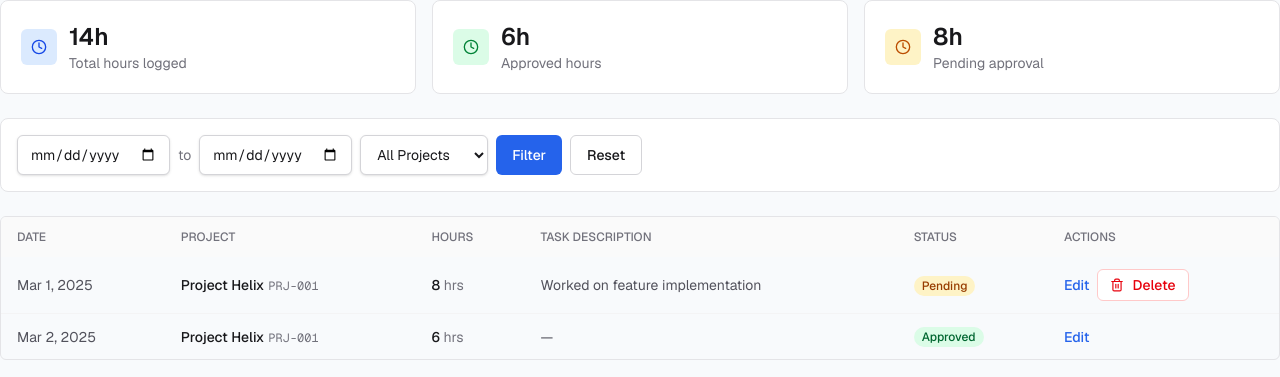
Test case: TimesheetHistoryTable › clears an applied filter and restores every entry when Reset is clicked
This screenshot has width=1280, height=377.
Type "2025-03-02" into the 1st date field named "From".
click(94, 155); type("2025-03-02")  # box [17,135,170,175]
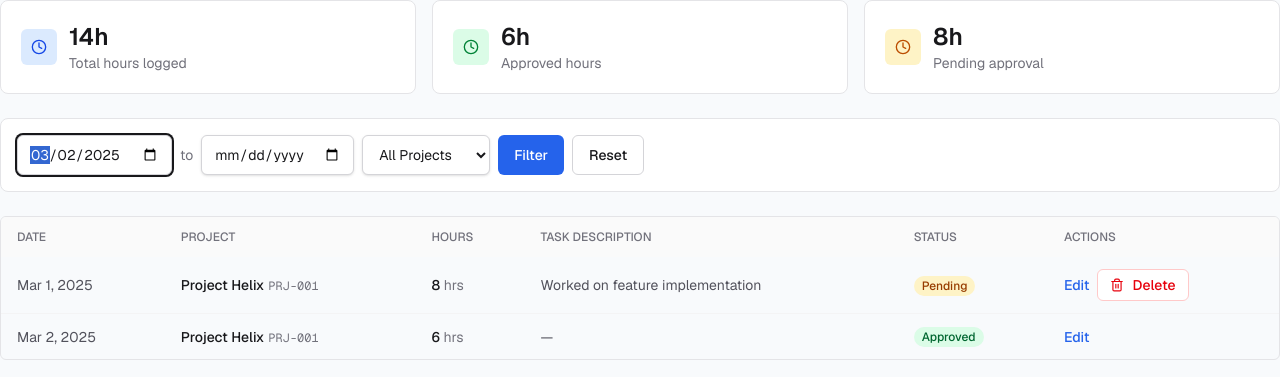
Type "2025-03-02" into the 2nd date field named "To".
click(278, 155); type("2025-03-02")  # box [201,135,354,175]
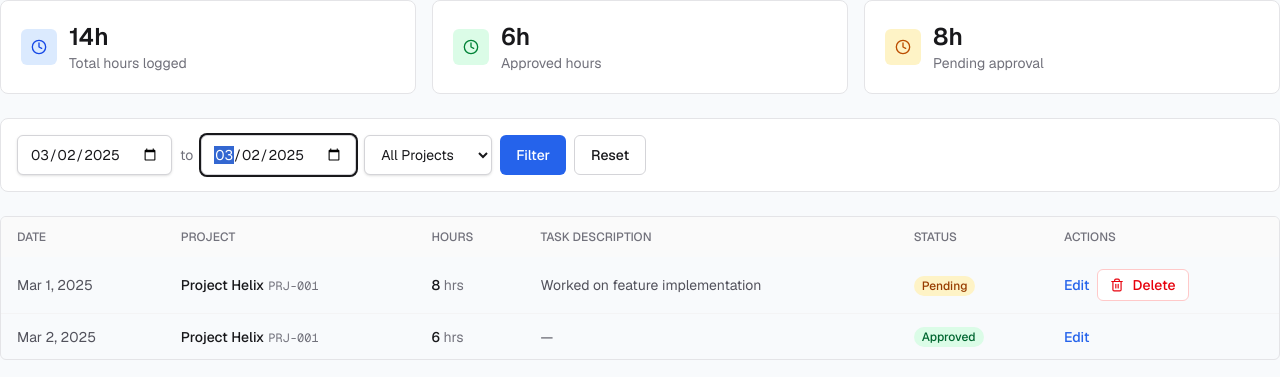
Click the button "Filter".
click(533, 155)  # box [500,135,566,175]
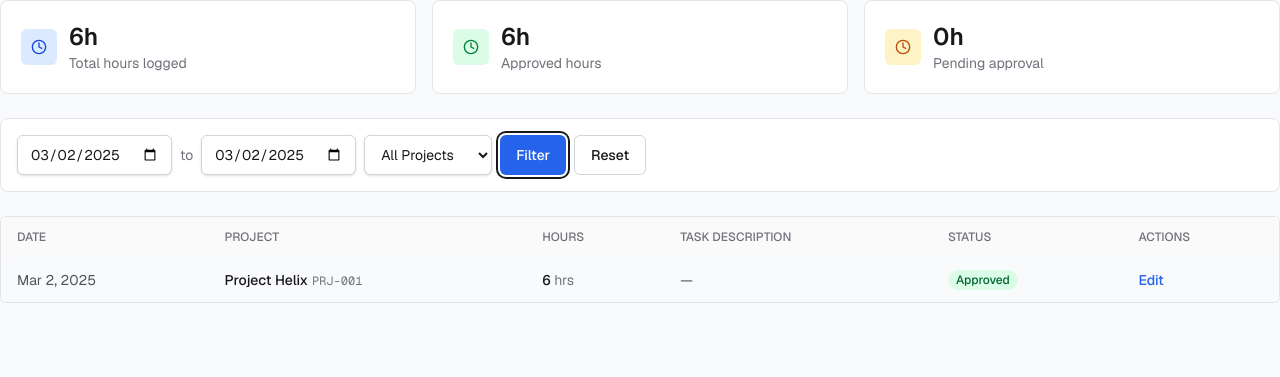
Now the number of rows is 2, box [1,217,1279,257]; [1,257,1279,302]
Click the button "Reset".
click(610, 155)  # box [574,135,646,175]
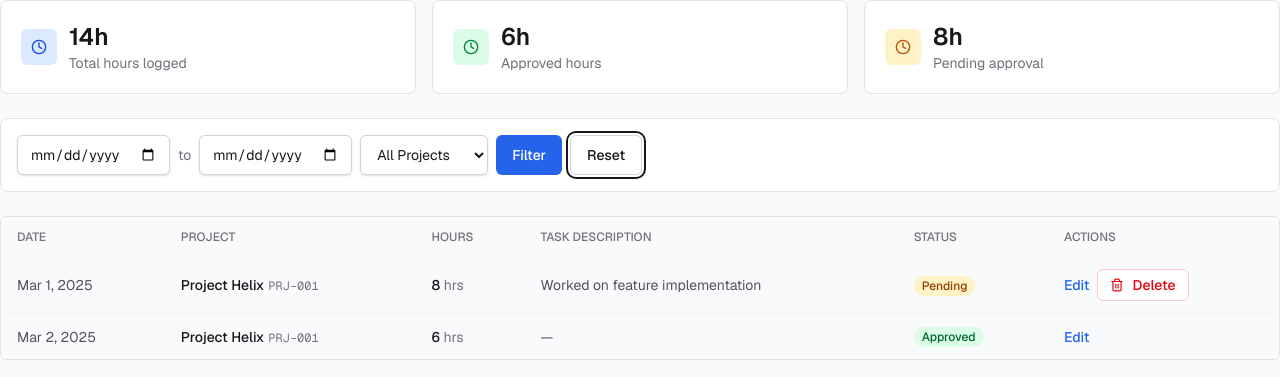
Now the number of rows is 3, box [1,217,1279,257]; [1,257,1279,314]; [1,314,1279,359]
Now the 1st date field named "From" is empty, box [17,135,170,175]
Now the 2nd date field named "To" is empty, box [199,135,352,175]
